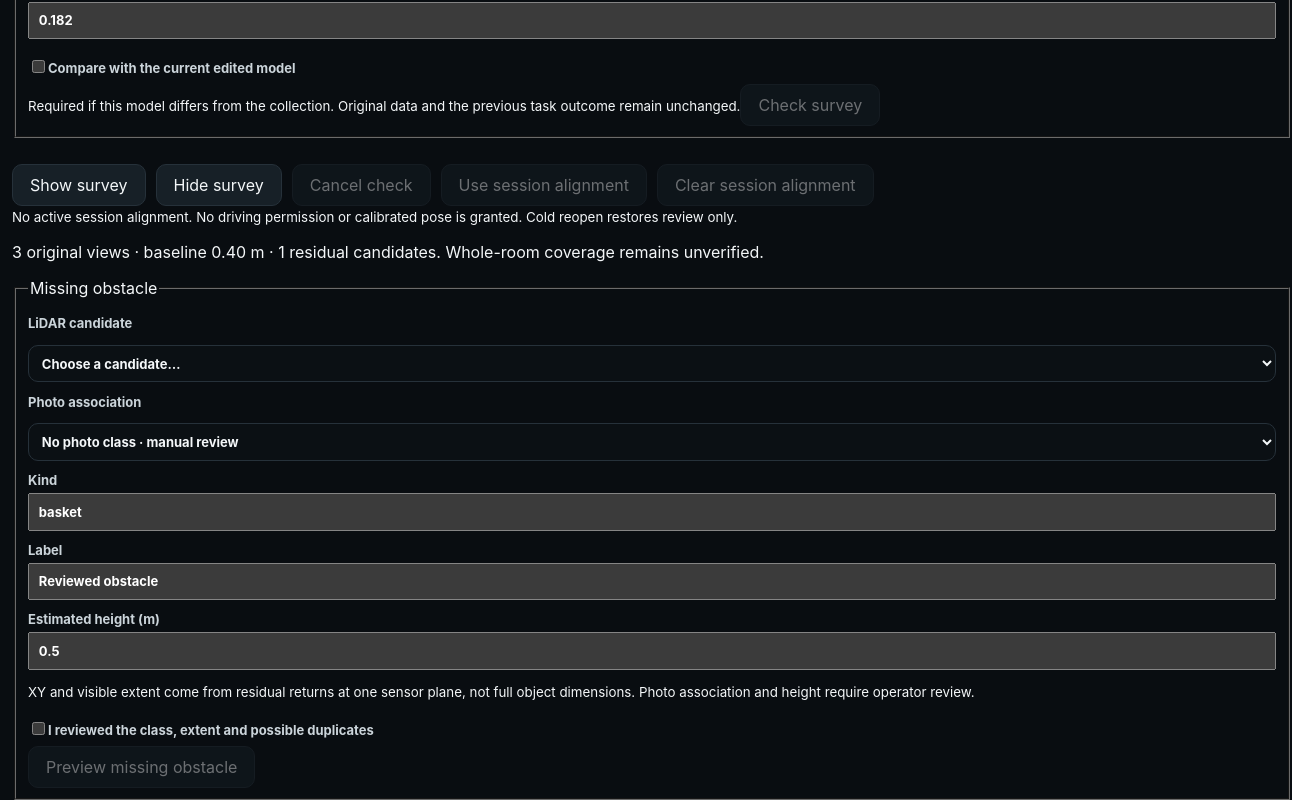
Photo association lists only addable candidates and maps furniture to an unknown box
(page scrolled)
Select "Couch · sofa" in the dropdown named "Survey photo association" at (652, 442), box [28,423,1276,461]
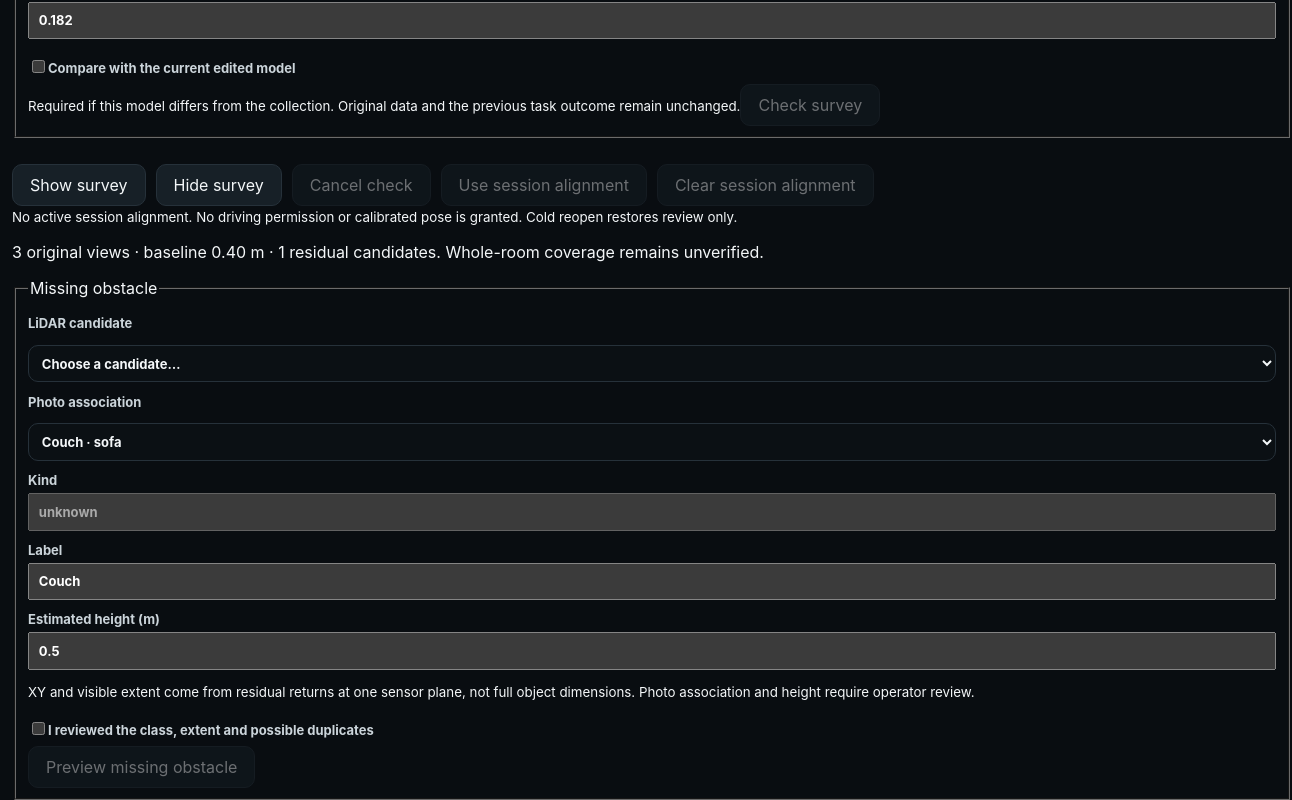
Result: the field named "Survey obstacle kind" holds "unknown" at [28,493,1276,531]
Result: the field named "Survey obstacle label" holds "Couch" at [28,563,1276,600]
Select "Basket · basket" in the dropdown named "Survey photo association" at (652, 442), box [28,423,1276,461]
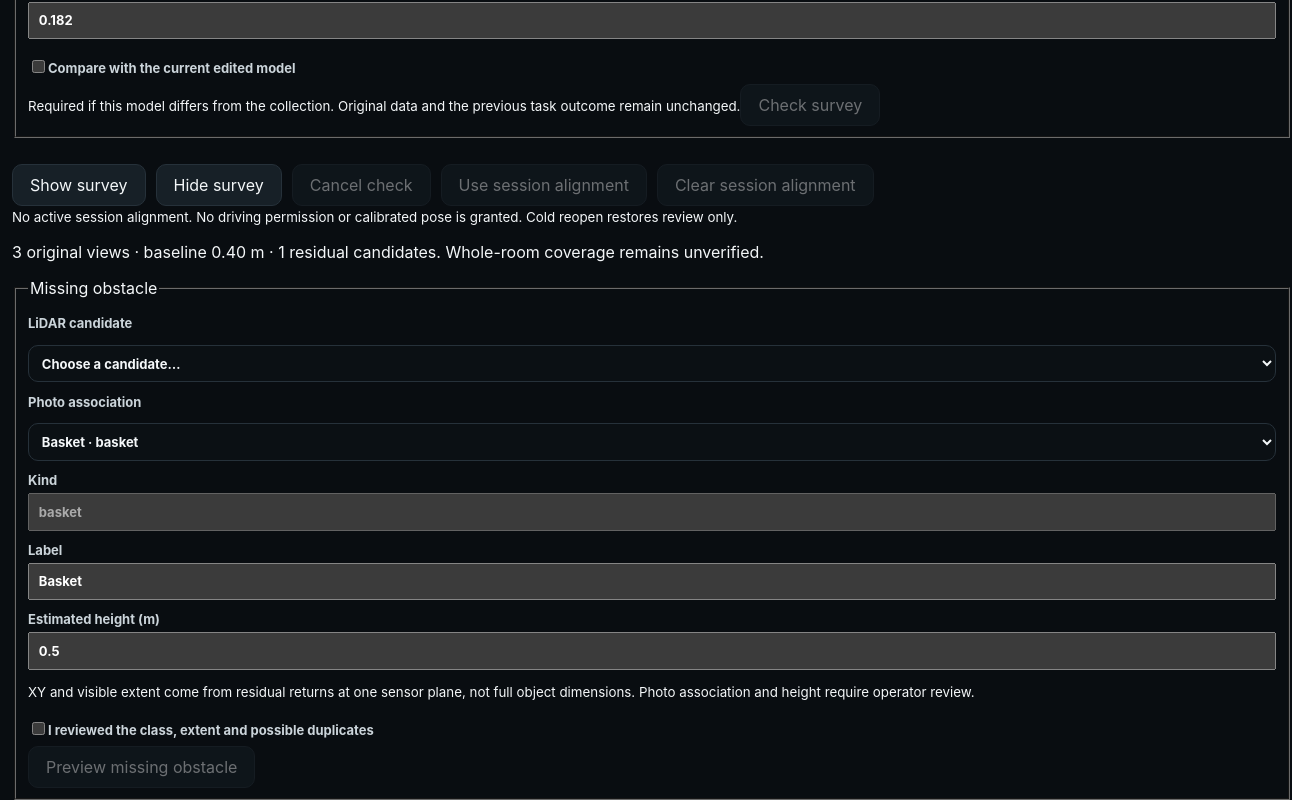
Result: the field named "Survey obstacle kind" holds "basket" at [28,493,1276,531]
